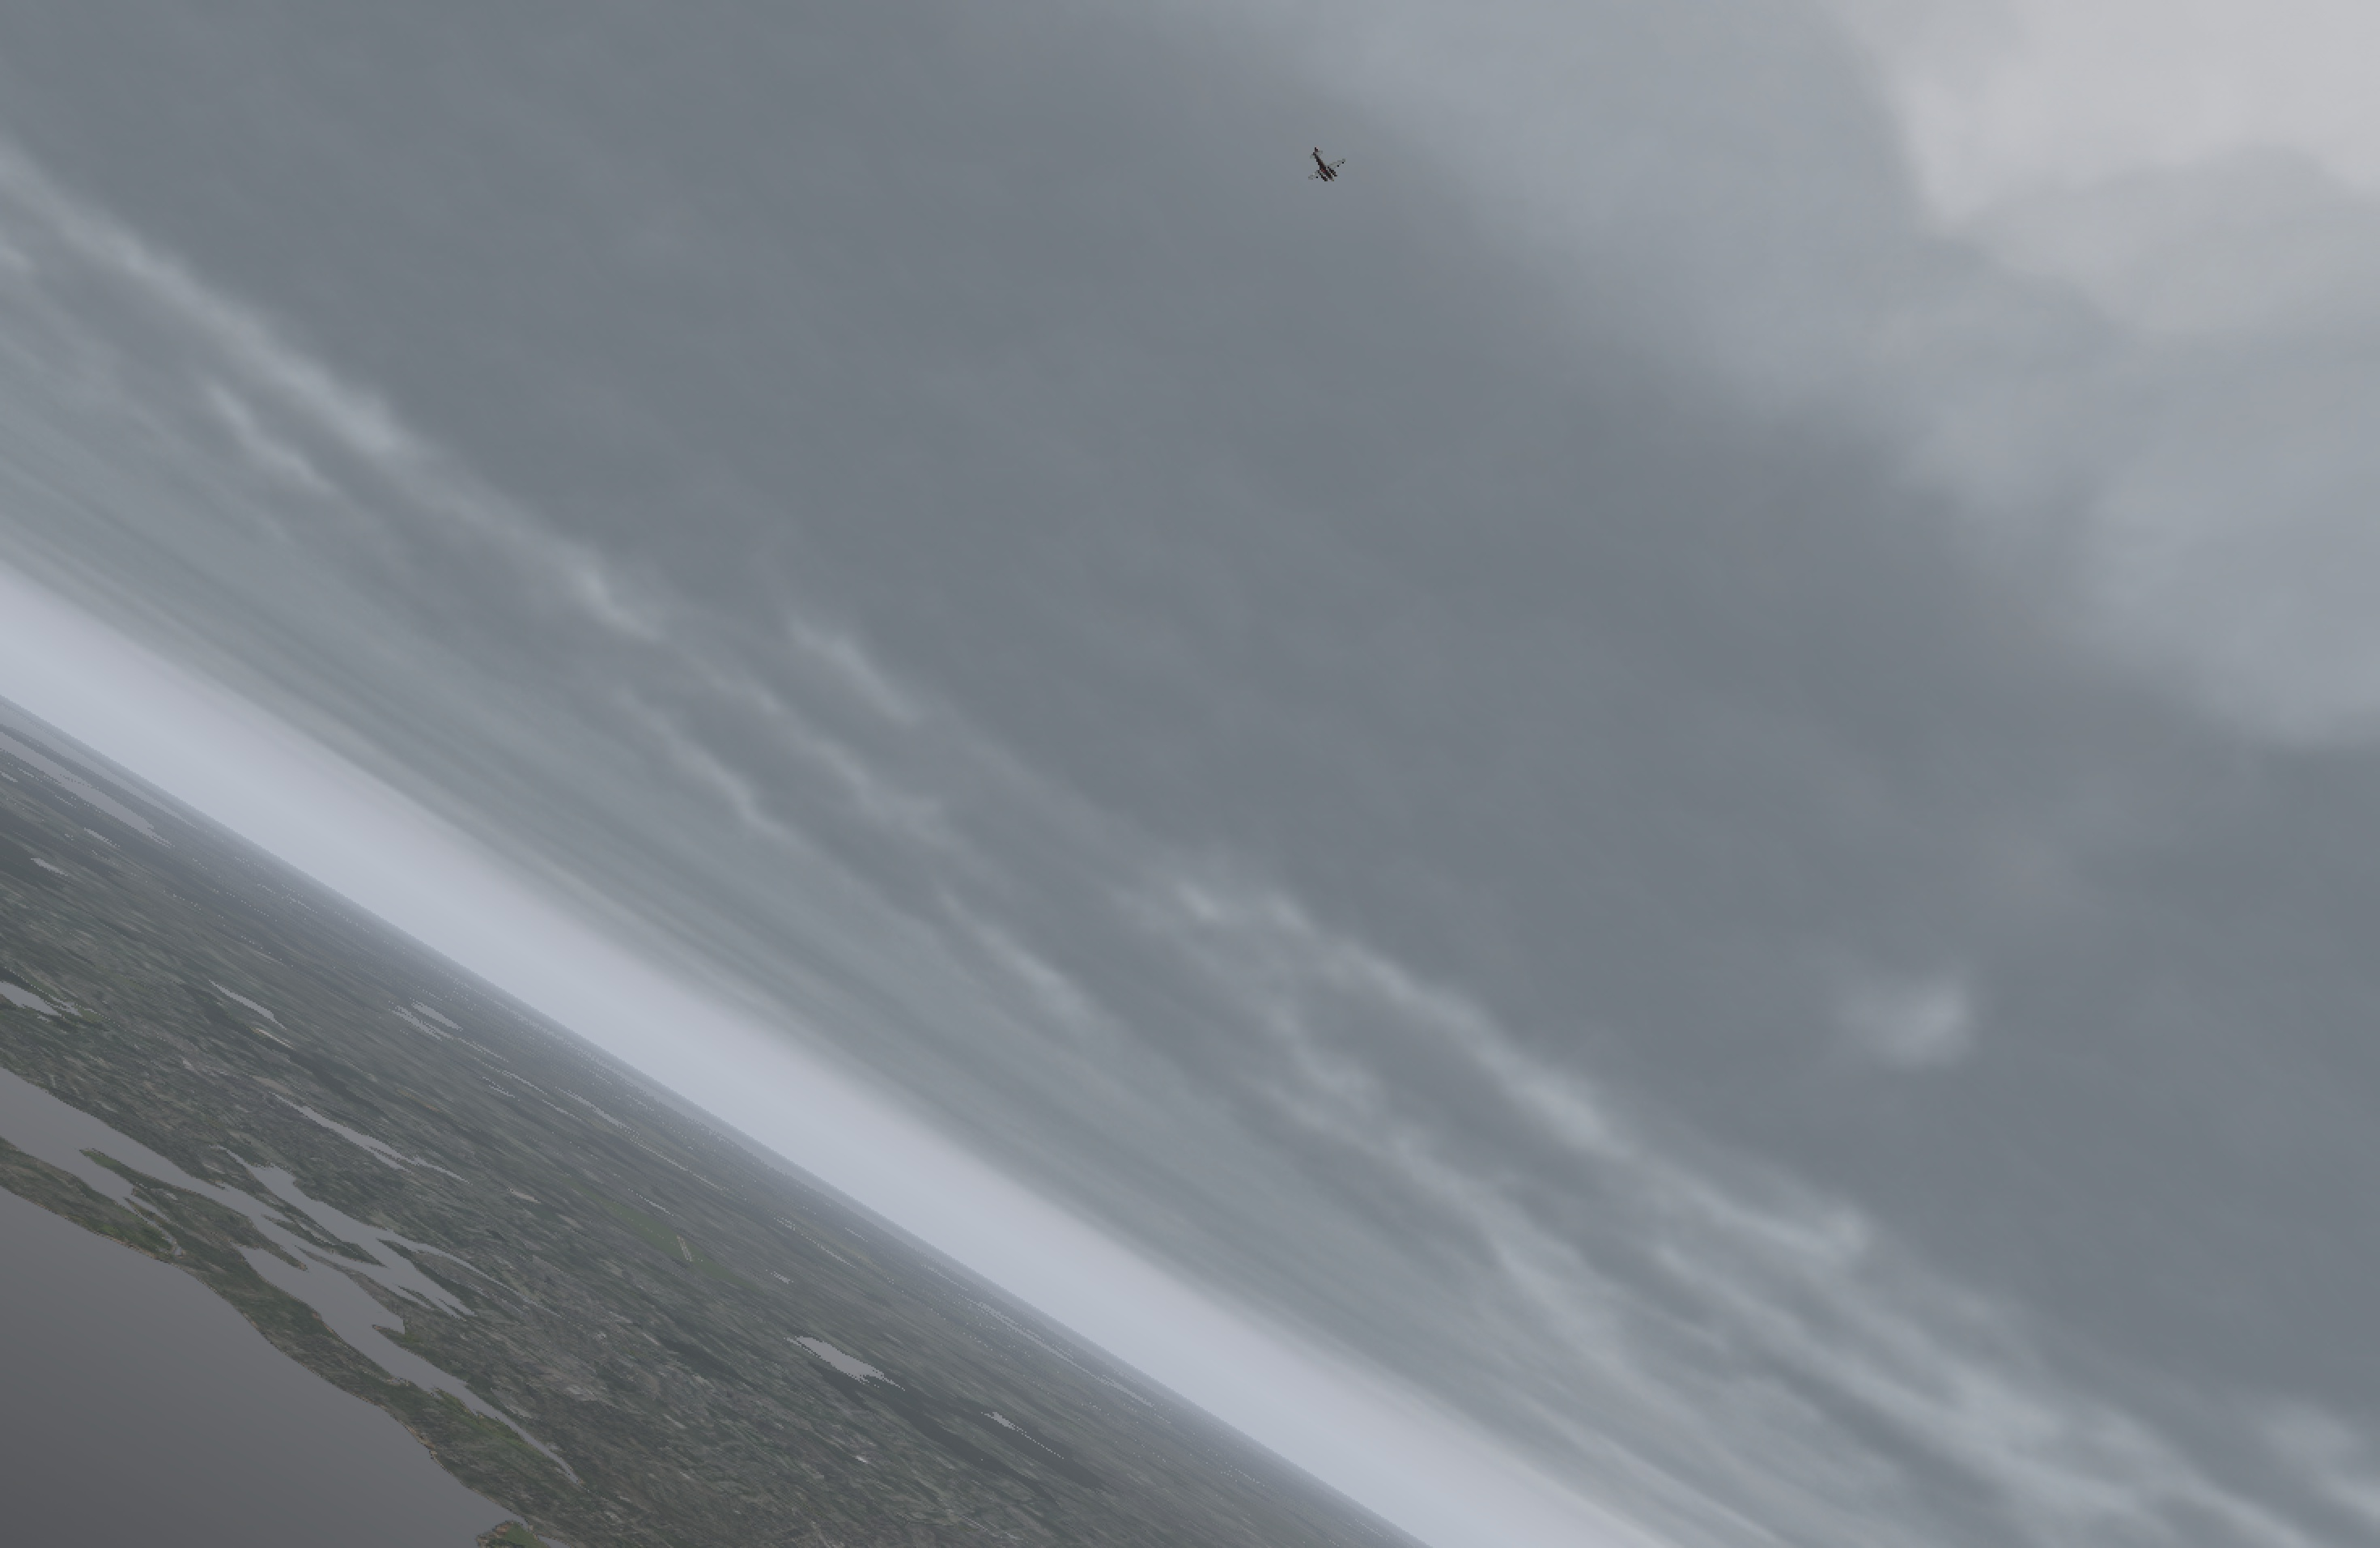aircraft: (1301, 163, 1351, 182)
